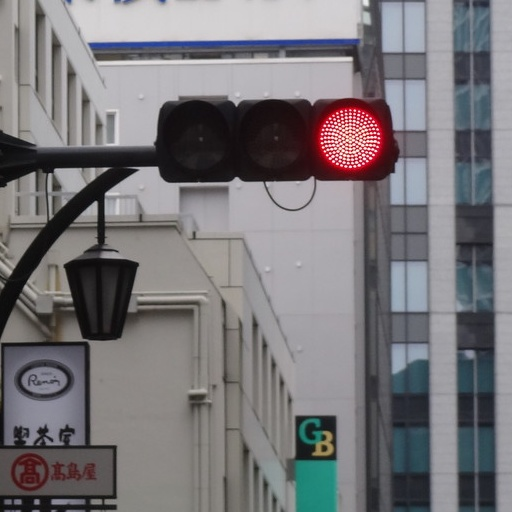Traffic_Signal_Red: (147, 94, 401, 182)
